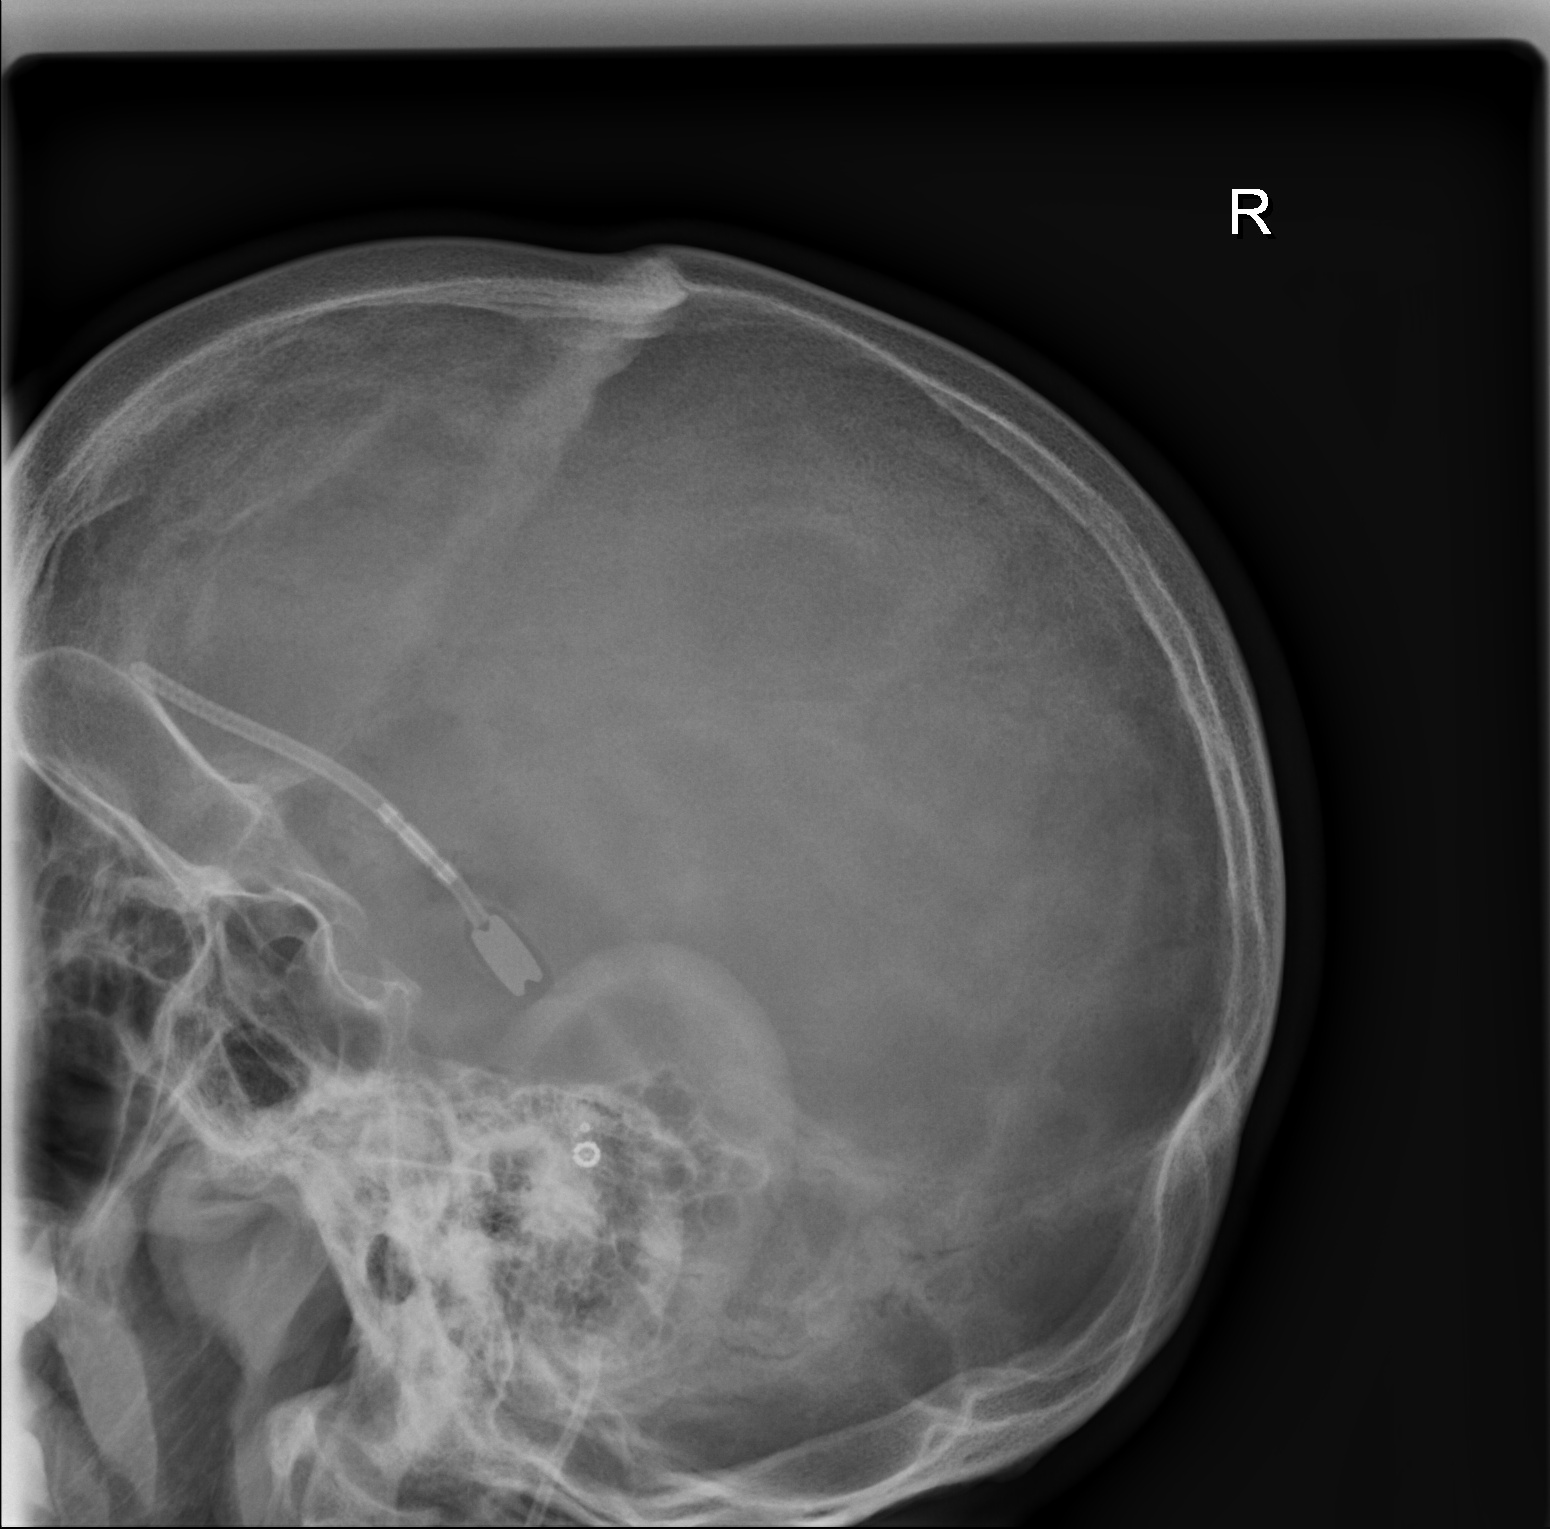Codman Hakim: (554, 1108, 609, 1178)
